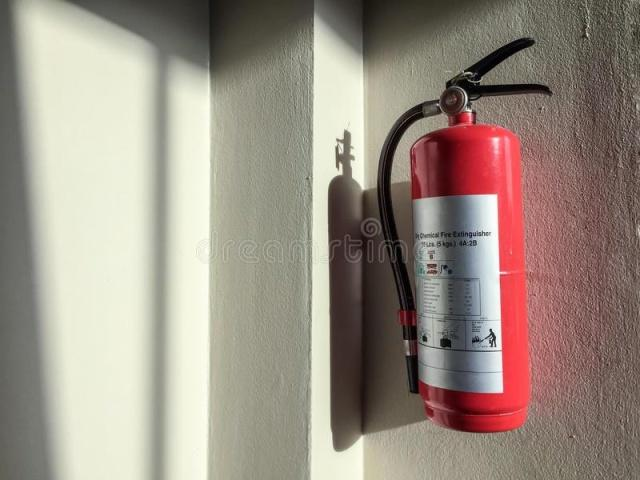APAR: (407, 31, 538, 435)
